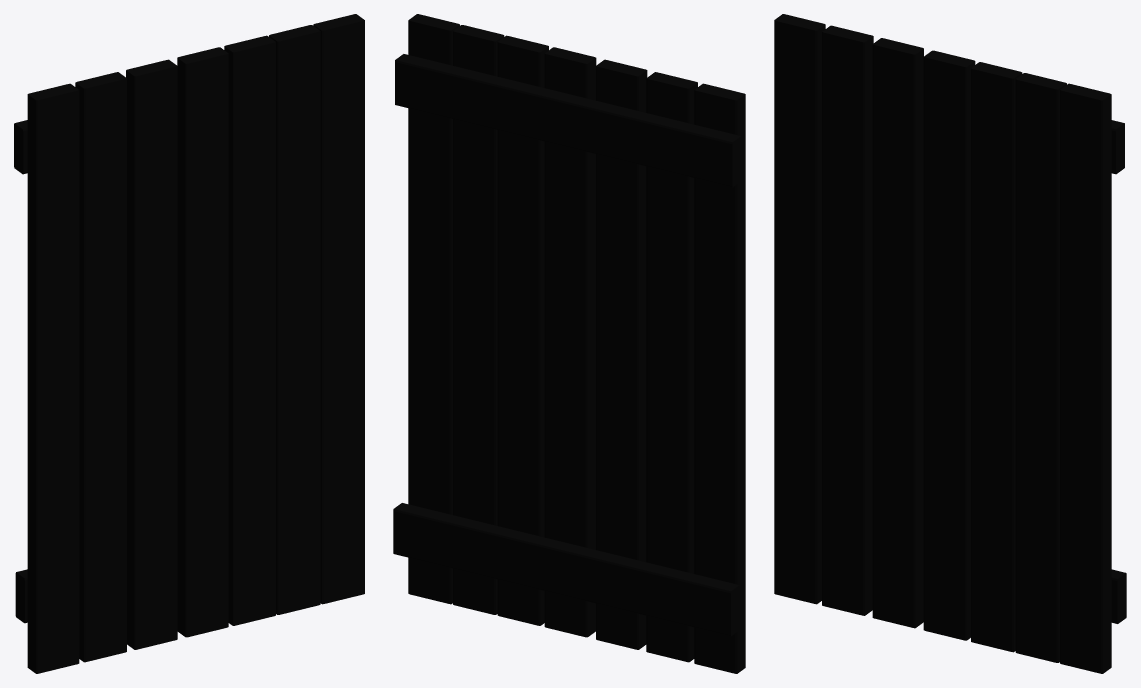
File: Fence.fbx
3 views of the same model, side by side, from view 1: azimuth 30°, elevation 25°; view 2: azimuth 150°, elevation 25°; view 3: azimuth 330°, elevation 25° (orthographic).
Visible parts, largest first — view 1: Cube.008; view 2: Cube.008; view 3: Cube.008.
Part boxes in pixels (x1,y1,x2,y2): Cube.008: (14, 14, 364, 673); Cube.008: (393, 14, 745, 673); Cube.008: (774, 14, 1126, 673).
Size of the model in its own units: 152 by 246 by 14.05.
